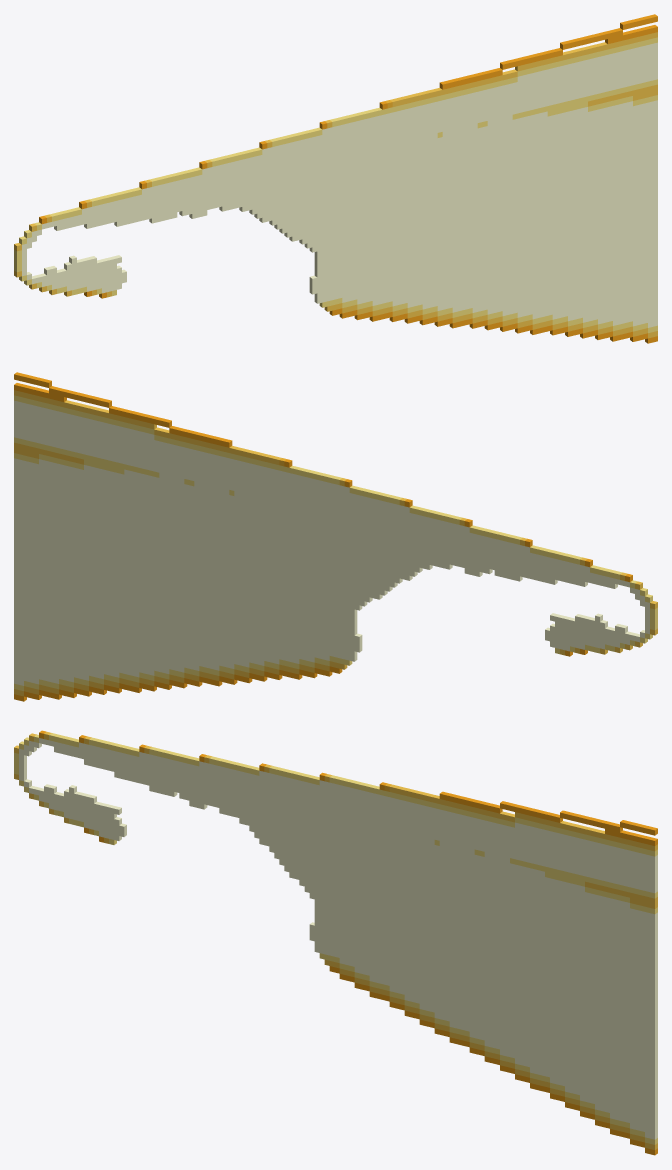
Rendered from Fight_017_2_11_fx.obj.
The picture shows the model from 3 angles, top to bottom: view 1: azimuth 30°, elevation 25°; view 2: azimuth 150°, elevation 25°; view 3: azimuth 330°, elevation 25°; orthographic projection.
Size of the model in its own units: 12.8 by 6.2 by 0.1.
1 material, 1 textured.
